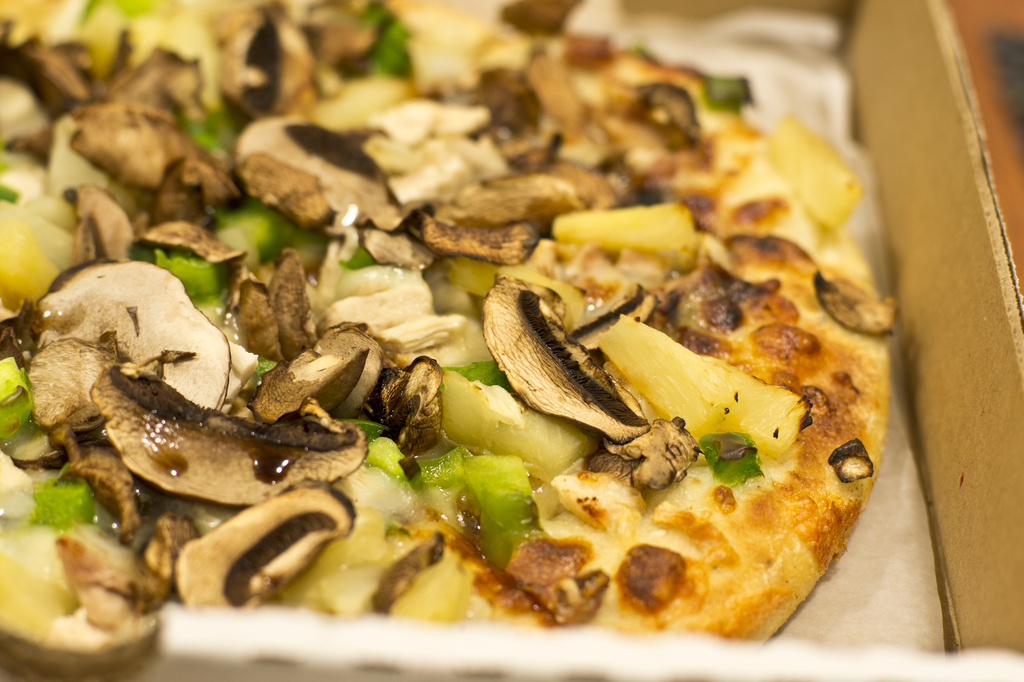Pizza: (11, 0, 974, 671)
